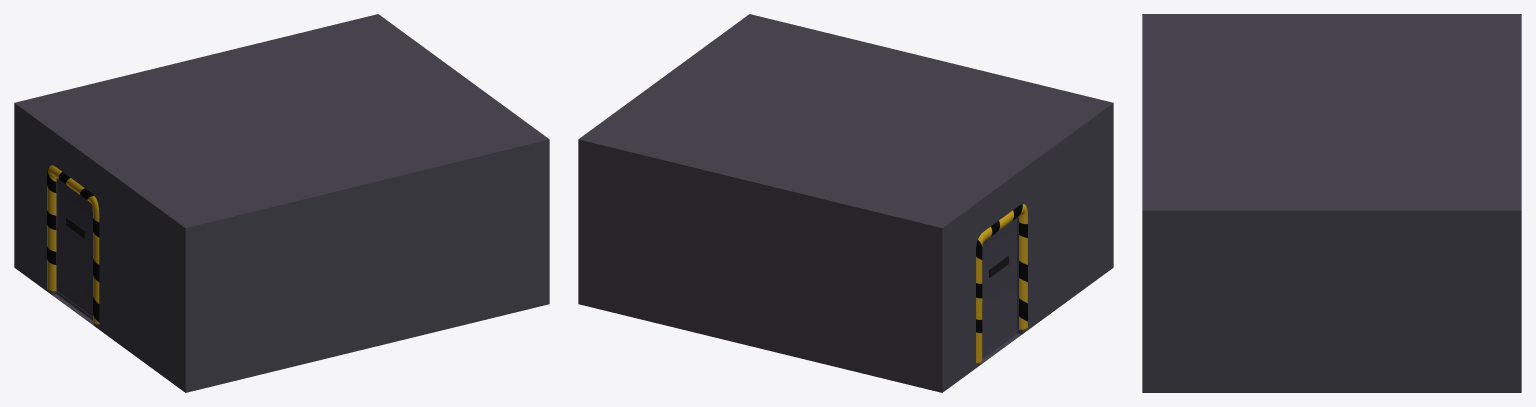
Rendered from startup scherm blockout 2.fbx.
The picture shows the model from 3 angles, left to right: view 1: azimuth 30°, elevation 25°; view 2: azimuth 150°, elevation 25°; view 3: azimuth 270°, elevation 25°; orthographic projection. The views are drawn at different scales.
Visible parts, largest first — view 1: Cube, NurbsPath; view 2: Cube, NurbsPath; view 3: Cube.
Boxes of the visible parts, <box> form: Cube: <box>14,14,549,392</box>; NurbsPath: <box>47,165,99,324</box>; Cube: <box>578,14,1113,392</box>; NurbsPath: <box>976,204,1027,363</box>; Cube: <box>1142,14,1521,392</box>.
Bounding box in the file's own units: 2656 × 1140 × 2149.
